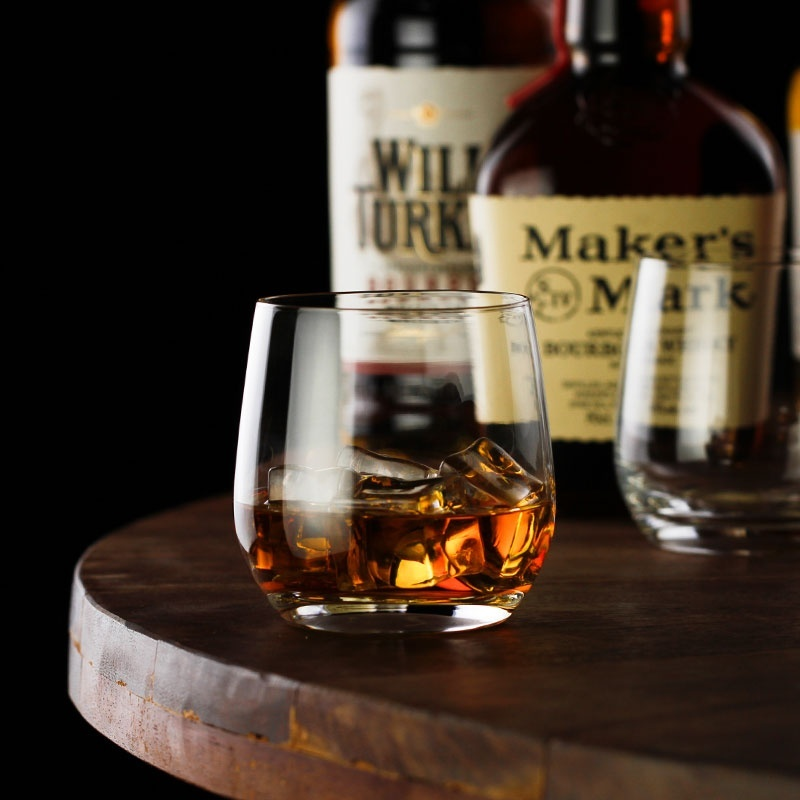whiskey: (250, 276, 560, 637)
